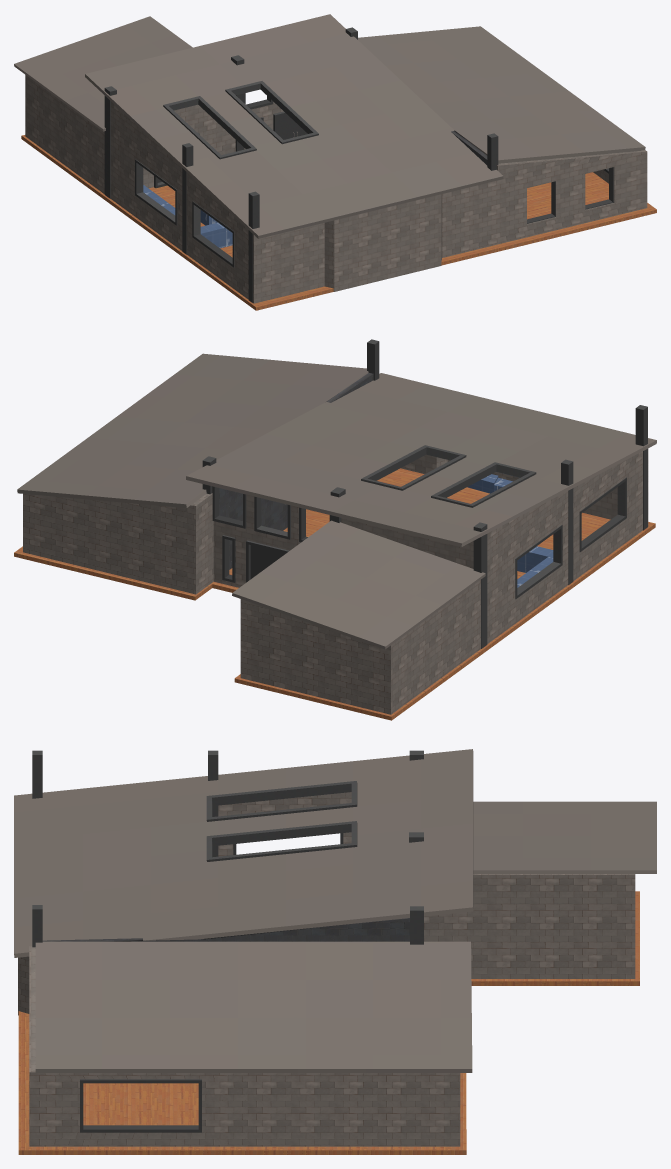
File: house01-temp-blockout.glb
3 views of the same model, one above another, from view 1: azimuth 30°, elevation 25°; view 2: azimuth 150°, elevation 25°; view 3: azimuth 270°, elevation 25° (orthographic). The views are drawn at different scales.
Visible parts, largest first — view 1: ceiling, ceiling.008, ceiling.005, ceiling.004, ceiling.001, ceiling.007, ceiling.031, ceiling.032, ceiling.009, ceiling.044, ceiling.043, ceiling.039 (+2 smaller); view 2: ceiling.008, ceiling, ceiling.005, ceiling.004, ceiling.001, ceiling.002, ceiling.003, ceiling.007, ceiling.031, ceiling.032, ceiling.039, ceiling.043 (+8 smaller); view 3: ceiling, ceiling.005, ceiling.008, ceiling.004, ceiling.001, ceiling.003, ceiling.031, ceiling.032, ceiling.023.
Part boxes in pixels (x1=…): ceiling: x1=85, y1=14, x2=503, y2=238; ceiling.008: x1=25, y1=75, x2=647, y2=303; ceiling.005: x1=358, y1=26, x2=645, y2=163; ceiling.004: x1=14, y1=16, x2=192, y2=131; ceiling.001: x1=21, y1=135, x2=656, y2=310; ceiling.007: x1=143, y1=104, x2=235, y2=188; ceiling.031: x1=163, y1=96, x2=256, y2=159; ceiling.032: x1=225, y1=81, x2=318, y2=144; ceiling.009: x1=143, y1=185, x2=232, y2=248; ceiling.044: x1=192, y1=201, x2=234, y2=267; ceiling.043: x1=135, y1=159, x2=177, y2=225; ceiling.039: x1=104, y1=86, x2=116, y2=198; ceiling.008: x1=23, y1=448, x2=648, y2=714; ceiling: x1=186, y1=373, x2=656, y2=546; ceiling.005: x1=17, y1=353, x2=368, y2=507; ceiling.004: x1=232, y1=520, x2=485, y2=649; ceiling.001: x1=14, y1=468, x2=655, y2=720; ceiling.002: x1=213, y1=494, x2=300, y2=587; ceiling.003: x1=219, y1=373, x2=373, y2=569; ceiling.007: x1=341, y1=518, x2=473, y2=568; ceiling.031: x1=431, y1=462, x2=536, y2=507; ceiling.032: x1=361, y1=445, x2=466, y2=490; ceiling.039: x1=473, y1=522, x2=487, y2=648; ceiling.043: x1=515, y1=524, x2=562, y2=599; ceiling: x1=14, y1=749, x2=473, y2=957; ceiling.005: x1=35, y1=941, x2=472, y2=1072; ceiling.008: x1=18, y1=792, x2=635, y2=1146; ceiling.004: x1=473, y1=801, x2=656, y2=873; ceiling.001: x1=18, y1=891, x2=639, y2=1154; ceiling.003: x1=42, y1=918, x2=409, y2=941; ceiling.031: x1=206, y1=781, x2=357, y2=821; ceiling.032: x1=206, y1=821, x2=357, y2=861; ceiling.023: x1=80, y1=1079, x2=201, y2=1132.
Size of the model in its own units: 29.19 by 7.82 by 30.54.
Materials: 6 (6 with a texture image).
